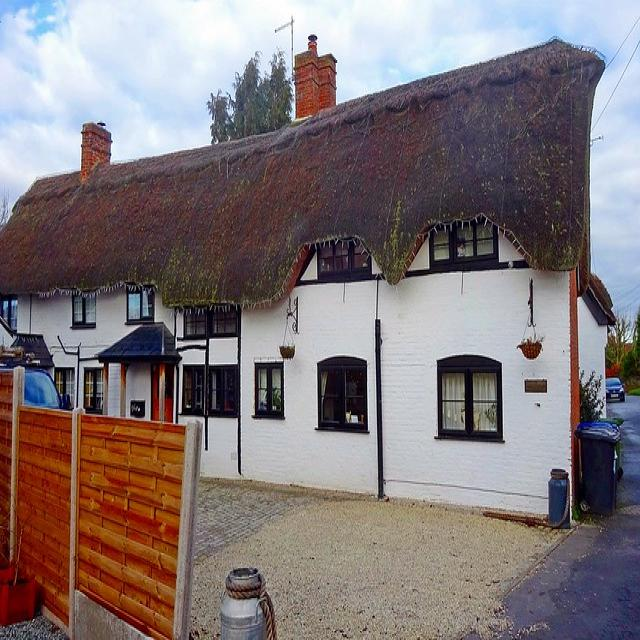Normal_building: (6, 33, 606, 532)
